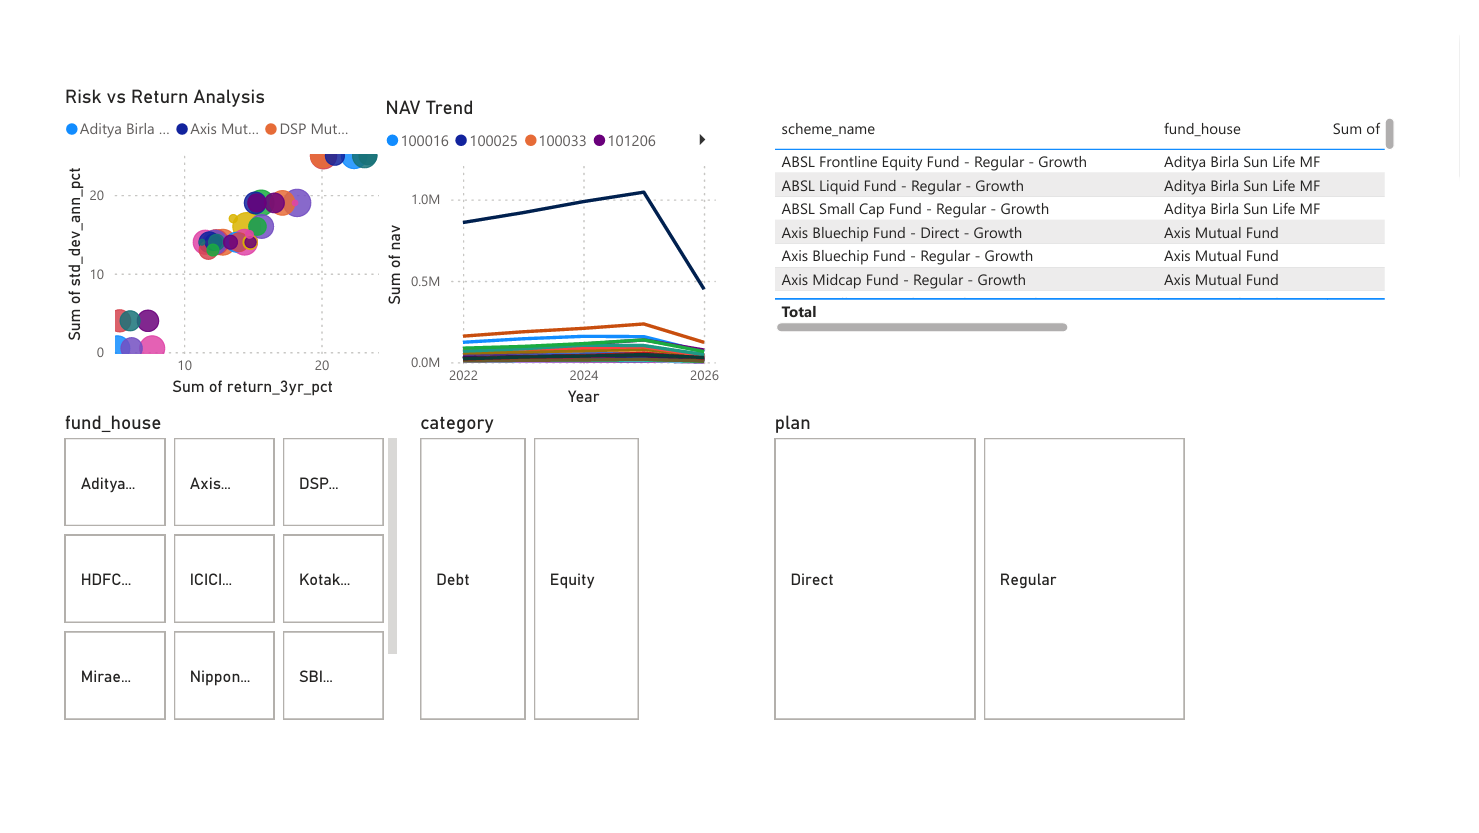

This screenshot's page, from the dashboard's own definition file:
{"tool":"powerbi","page":{"name":"Fund Performance","canvas":[1280,720],"ordinal":1},"visuals":[{"type":"scatterChart","title":"Risk vs Return Analysis","fields":{"X":["Sum(clean_performance.return_3yr_pct)"],"Y":["Sum(clean_performance.std_dev_ann_pct)"],"Size":["Sum(clean_performance.aum_crore)"],"Category":["clean_performance.scheme_name"],"Series":["clean_performance.fund_house"]},"box":[35.5,79.5,305.7,280],"z":0},{"type":"tableEx","fields":{"Values":["clean_performance.scheme_name","clean_performance.fund_house","Sum(clean_performance.return_3yr_pct)","Sum(clean_performance.sharpe_ratio)","Sum(clean_performance.alpha)","Sum(clean_performance.expense_ratio_pct)","Sum(clean_performance.aum_crore)"]},"box":[666.4,102.7,560.1,201.8],"z":1000},{"type":"advancedSlicerVisual","fields":{"Values":["clean_fund_master.fund_house"]},"box":[35,369,306,280],"z":2000},{"type":"advancedSlicerVisual","fields":{"Values":["clean_fund_master.category"]},"box":[351,369,306,280],"z":3000},{"type":"advancedSlicerVisual","fields":{"Values":["clean_fund_master.plan"]},"box":[666,369,560,280],"z":4000},{"type":"lineChart","title":"NAV Trend","fields":{"Category":["clean_nav.date.Variation.Date Hierarchy.Year","clean_nav.date.Variation.Date Hierarchy.Quarter","clean_nav.date.Variation.Date Hierarchy.Month","clean_nav.date.Variation.Date Hierarchy.Day"],"Y":["Sum(clean_nav.nav)"],"Series":["clean_nav.amfi_code"]},"box":[320.4,89.3,305.7,280],"z":5000}]}

Visuals, with their boxes in screenshot pixels (x1, y1, x2, y2), scaled from the page's 1280x720 canvas onto the 1479x833 screenshot:
"Risk vs Return Analysis" scatterChart: 41, 92, 394, 416
tableEx - clean_performance.scheme_name x clean_performance.fund_house: 770, 119, 1417, 352
advancedSlicerVisual - clean_fund_master.fund_house: 40, 427, 394, 751
advancedSlicerVisual - clean_fund_master.category: 406, 427, 759, 751
advancedSlicerVisual - clean_fund_master.plan: 770, 427, 1417, 751
"NAV Trend" lineChart: 370, 103, 723, 427
